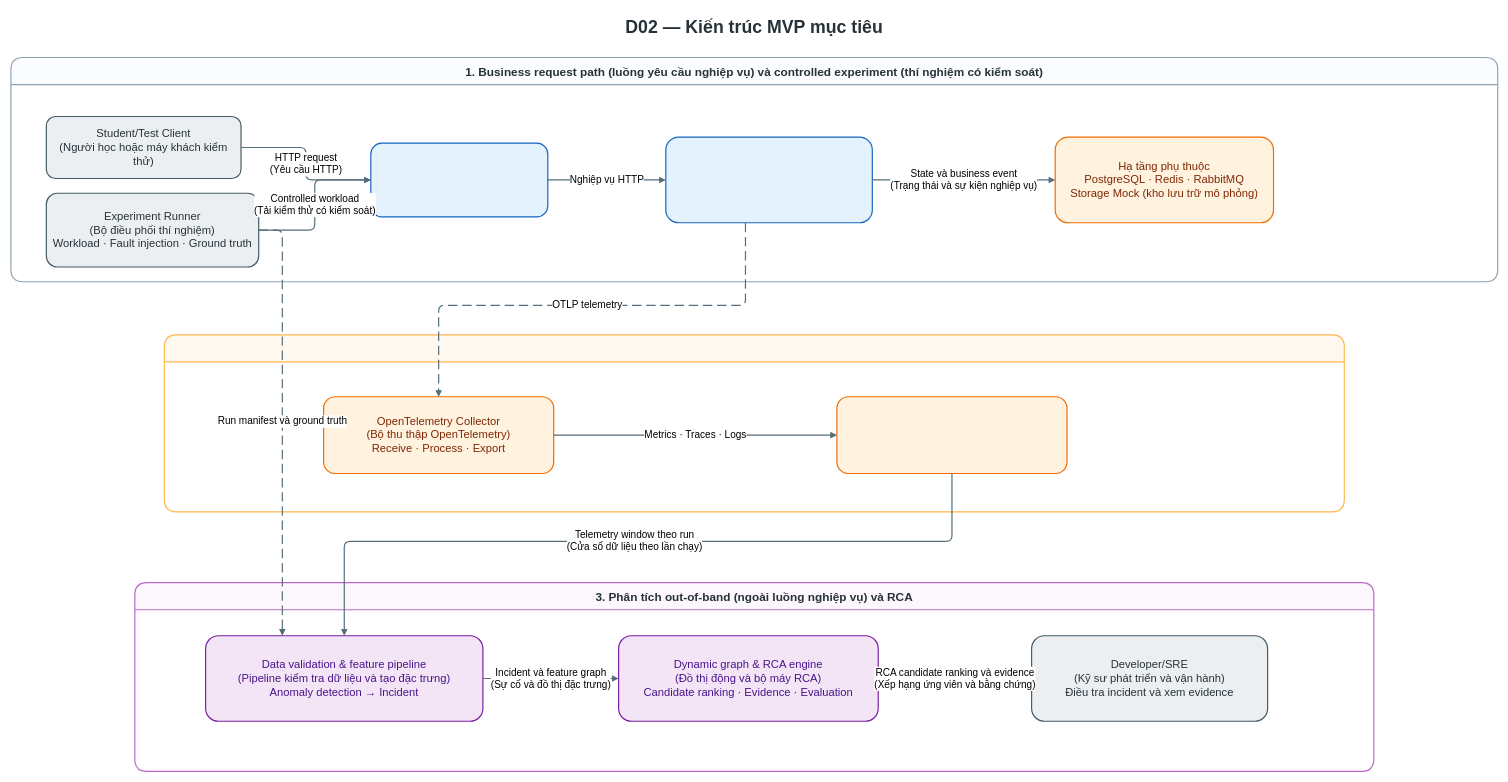
This 1508x782 diagram has some shape labels left out. The shapes that lost their labels are listed below. From the top down, each one's box as (x1, y1, x2, y2) in pixels, then its label:
(370, 142, 548, 217): API Gateway (Cổng API) service.name=gateway
(665, 136, 873, 223): LMS business services (Các dịch vụ nghiệp vụ LMS) PLANNED — dự kiến cho MVP
(163, 334, 1345, 512): 2. Thu thập và lưu trữ telemetry (dữ liệu quan sát)
(836, 396, 1067, 474): Telemetry stores (Kho dữ liệu quan sát) Prometheus · Tempo · Loki · Grafana
